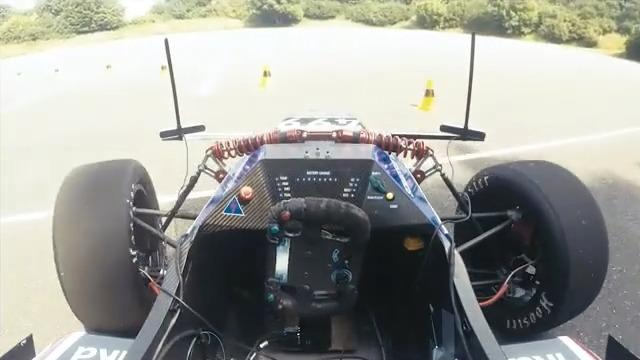yellow_cone: (411, 73, 442, 116), (255, 63, 280, 93)
